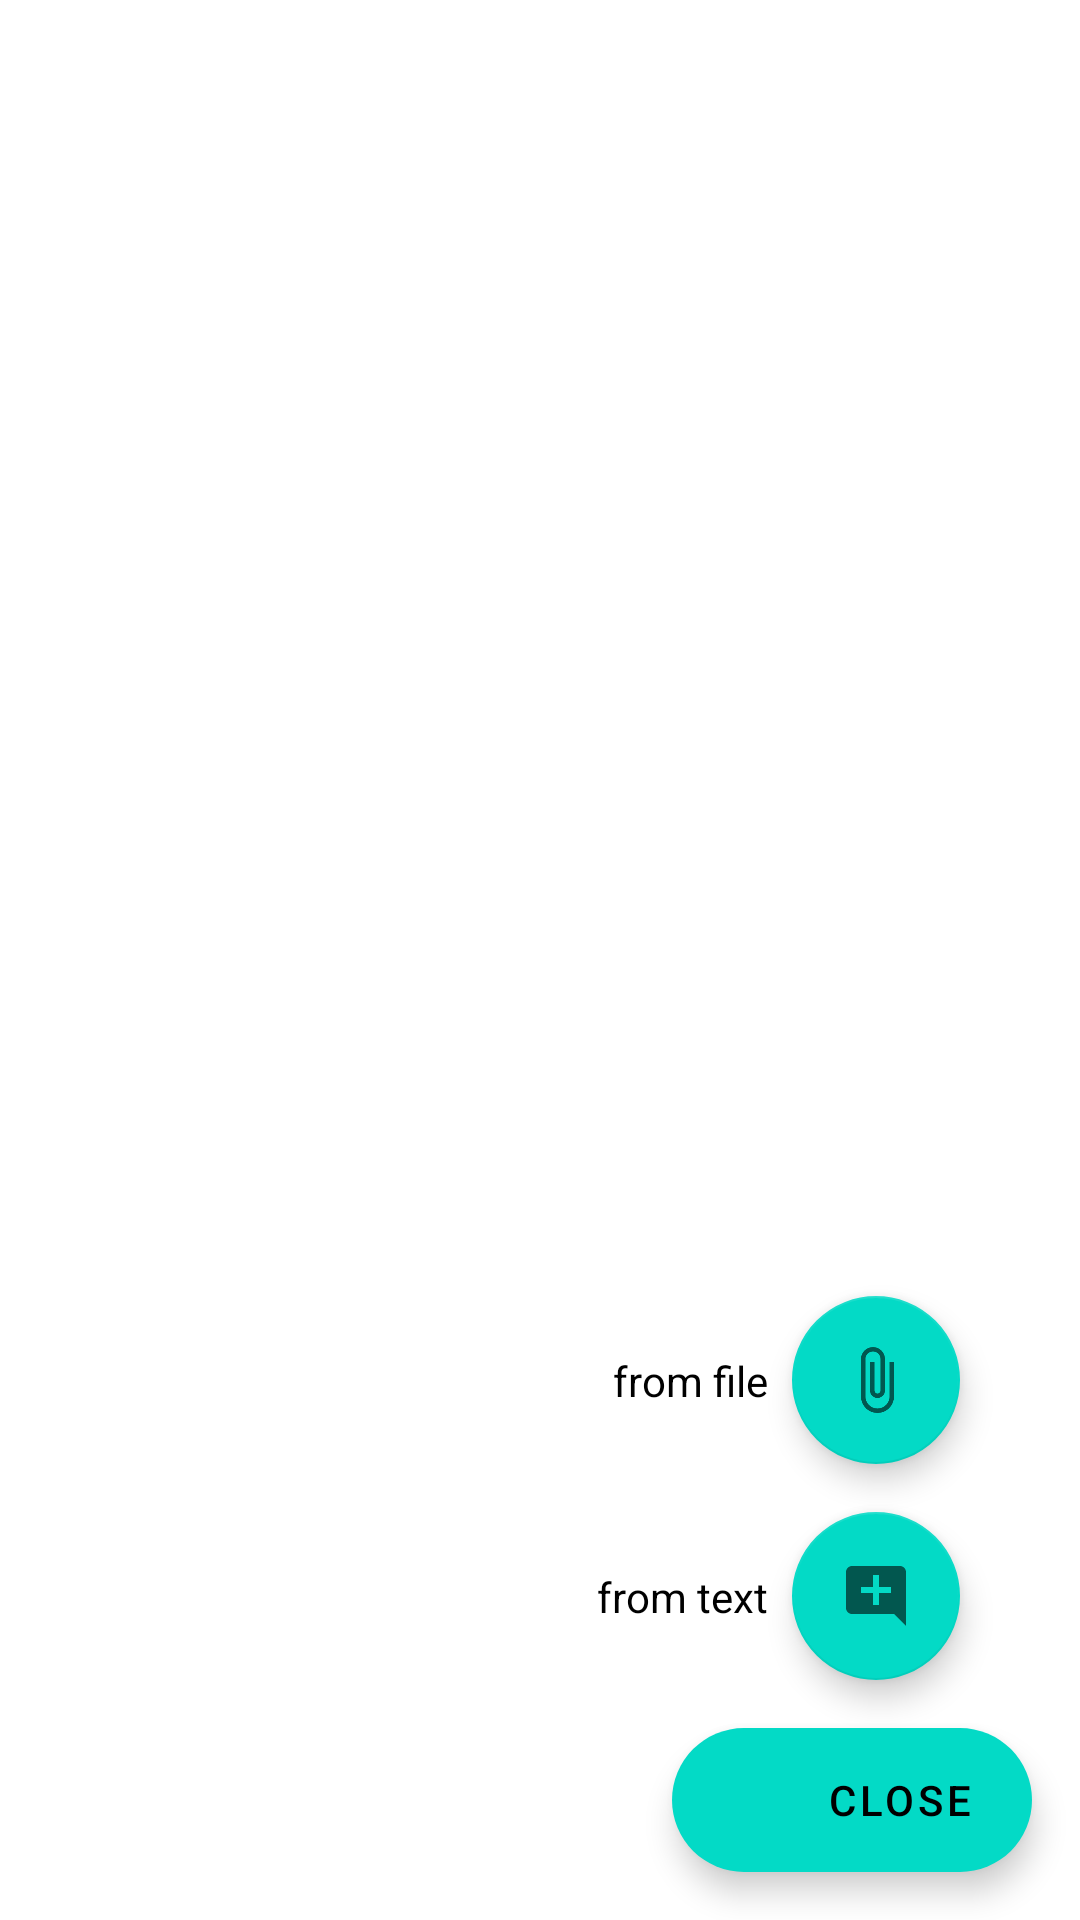

Named icons in this screenshot (1080w x 1920h) and their centers, (x,y):
add note: (876,1596)
